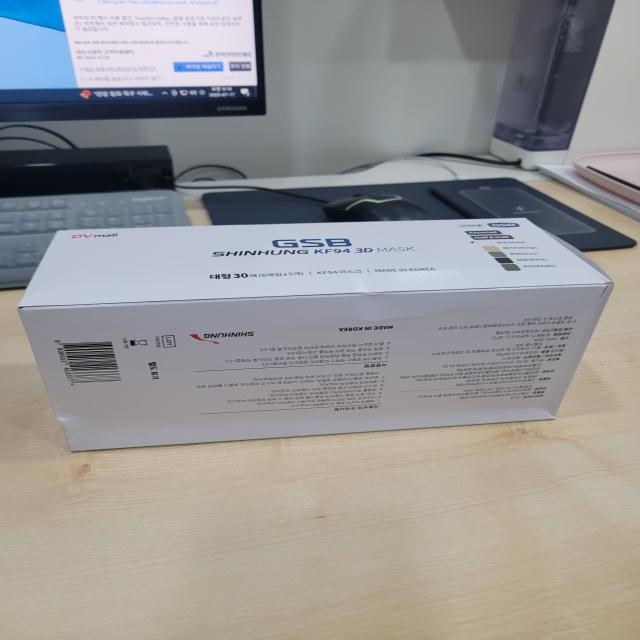mask: (0, 211, 640, 464)
